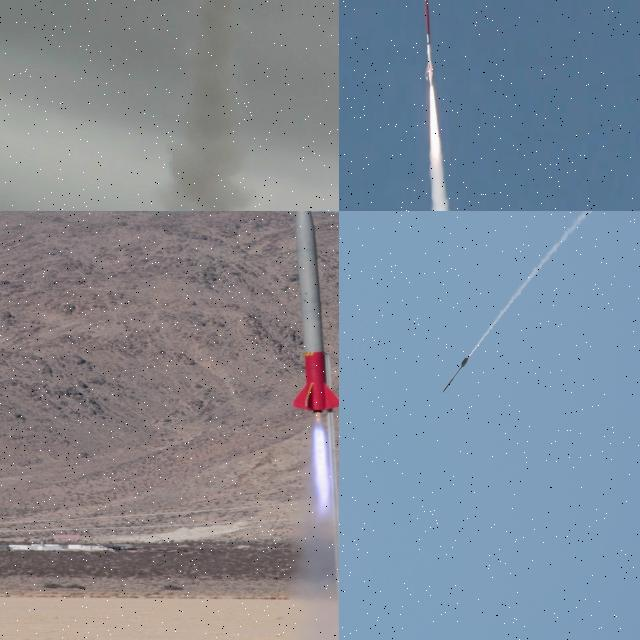Rocket: (290, 211, 339, 413), (442, 356, 470, 394), (424, 0, 435, 85)
